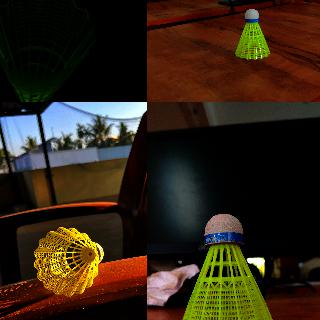shuttlecock: (177, 213, 278, 319), (0, 0, 96, 101), (34, 226, 102, 296), (234, 8, 270, 60)
